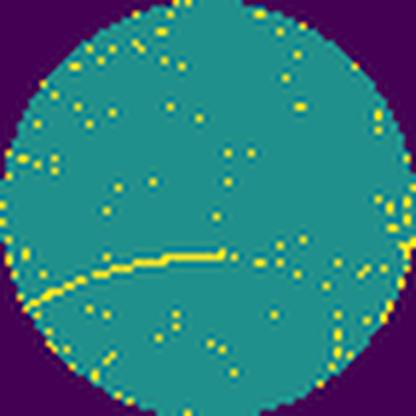Scratch: (21, 244, 236, 316)
